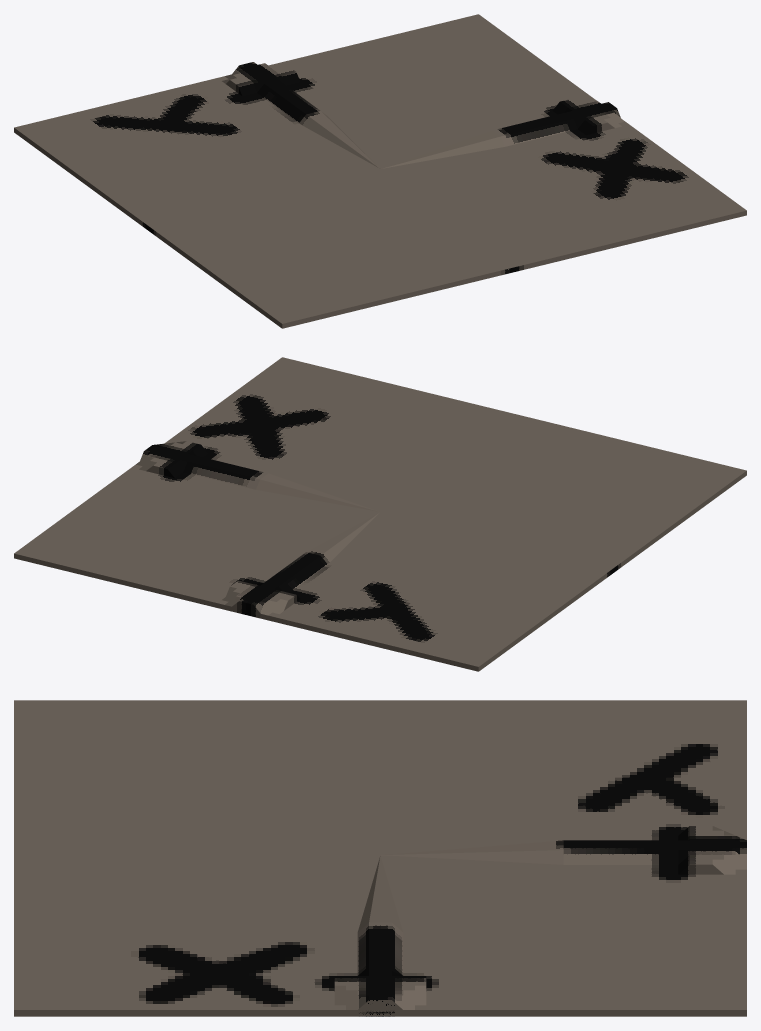
File: direction.glb
The picture shows the model from 3 angles, top to bottom: view 1: azimuth 30°, elevation 25°; view 2: azimuth 150°, elevation 25°; view 3: azimuth 270°, elevation 25°; orthographic projection. The views are drawn at different scales.
Visible parts, largest first — view 1: Cube; view 2: Cube; view 3: Cube.
Boxes of the visible parts, <box> form: Cube: <box>14,14,746,328</box>; Cube: <box>14,357,746,671</box>; Cube: <box>14,700,746,1016</box>.
Bounding box in the file's own units: 100 × 2.5 × 100.
1 material, 1 textured.
